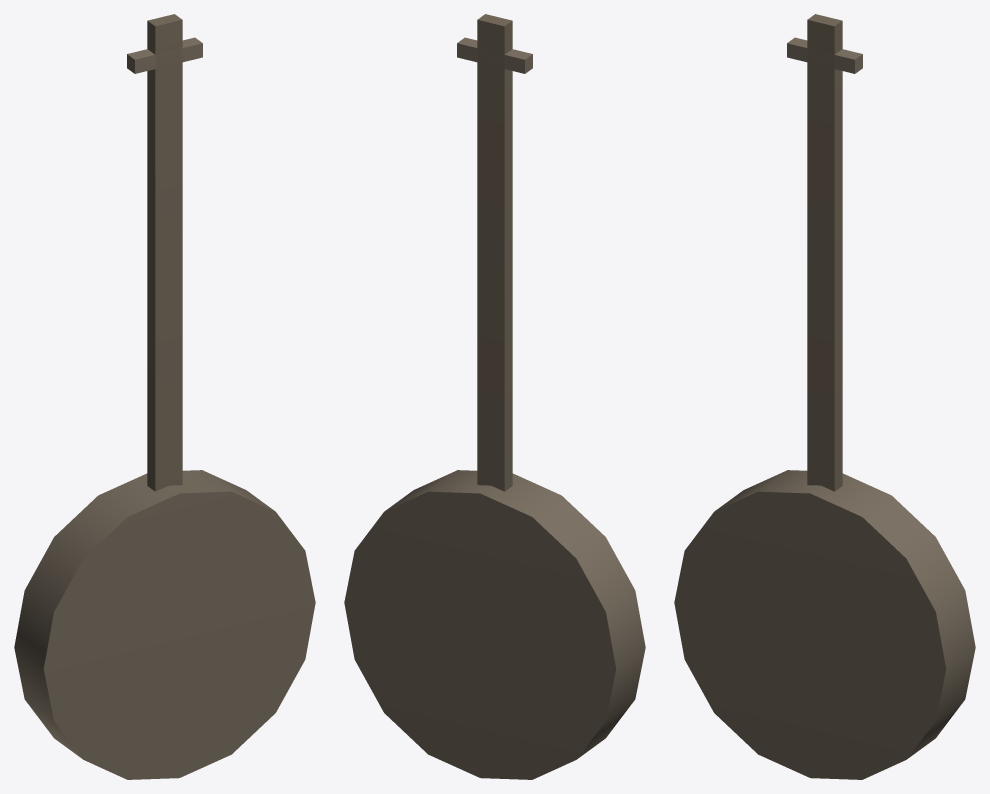
The model's file is chapei.glb.
3 renders of one model, left to right at view 1: azimuth 30°, elevation 25°; view 2: azimuth 150°, elevation 25°; view 3: azimuth 330°, elevation 25°, orthographic.
Bounding box in the file's own units: 0.96 × 2.52 × 0.18.
